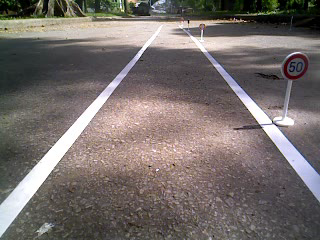limit 50: (279, 50, 311, 83)
